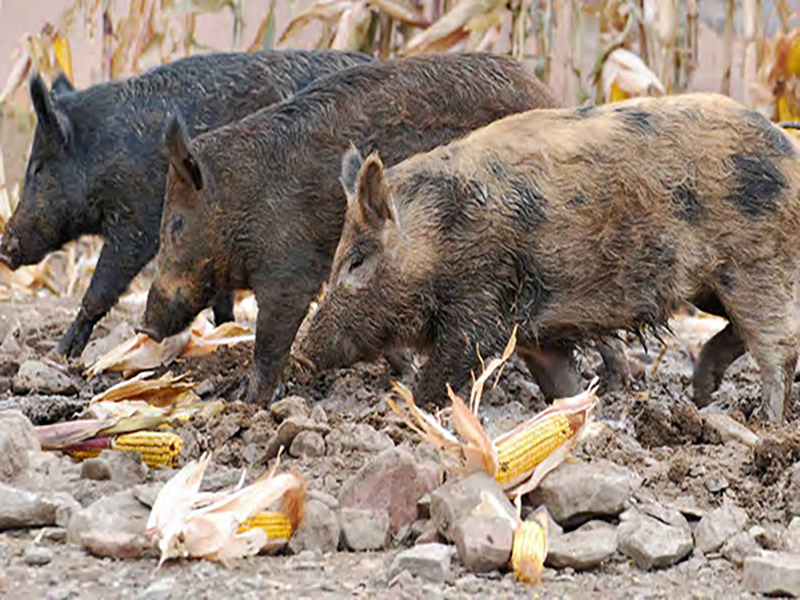cinghiale: (280, 86, 795, 406), (133, 99, 339, 375), (9, 42, 178, 365)
